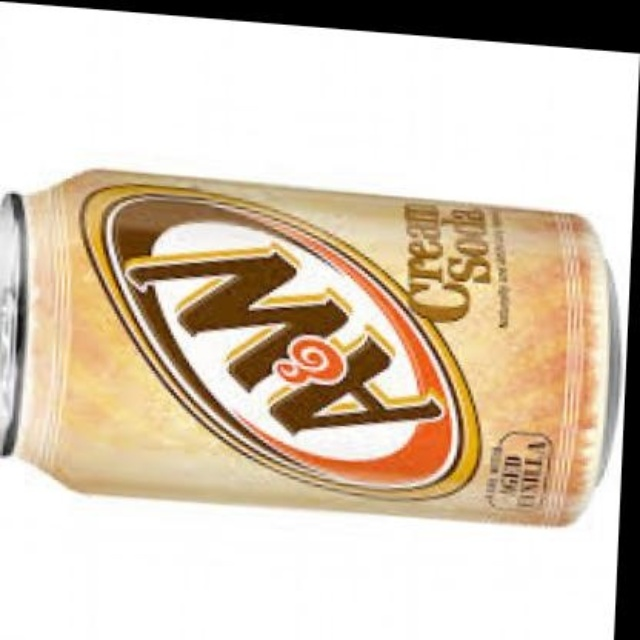trash: (0, 171, 615, 523)
